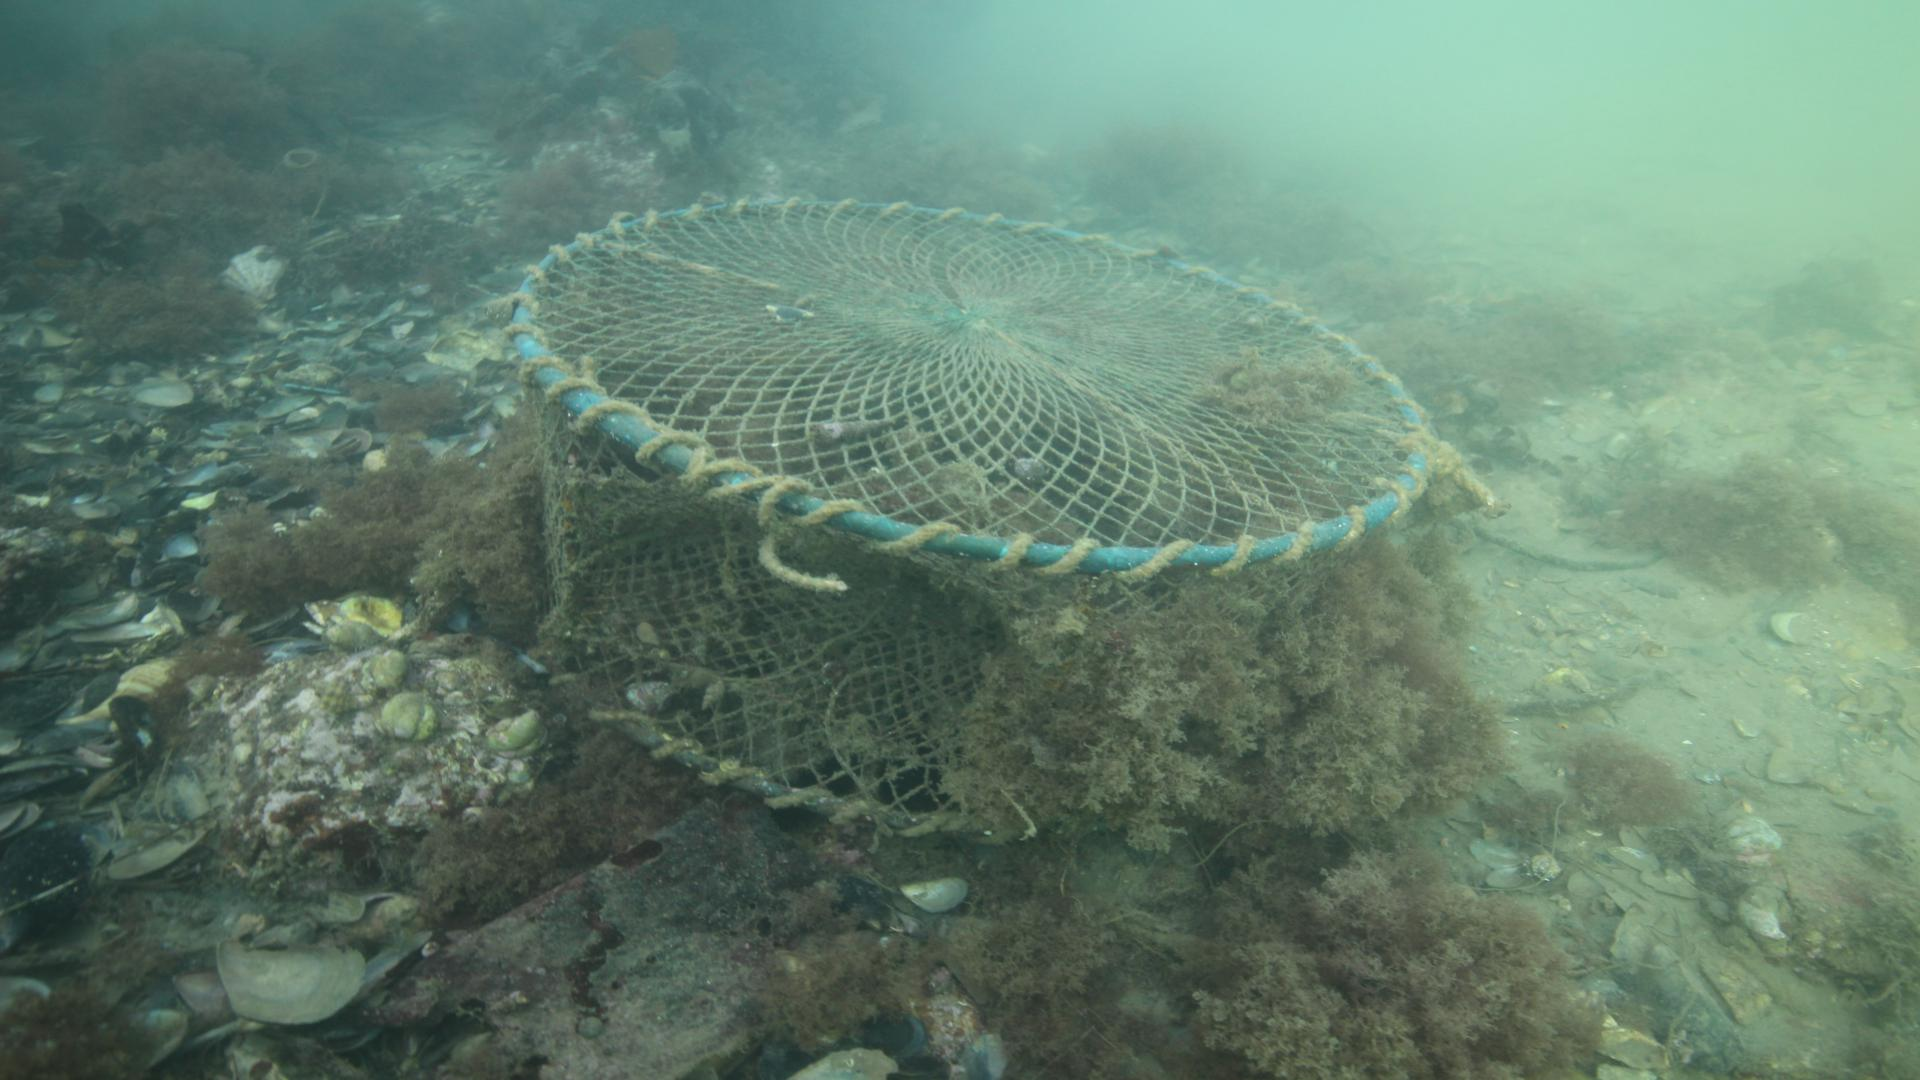circular fish trap: (502, 194, 1431, 837)
